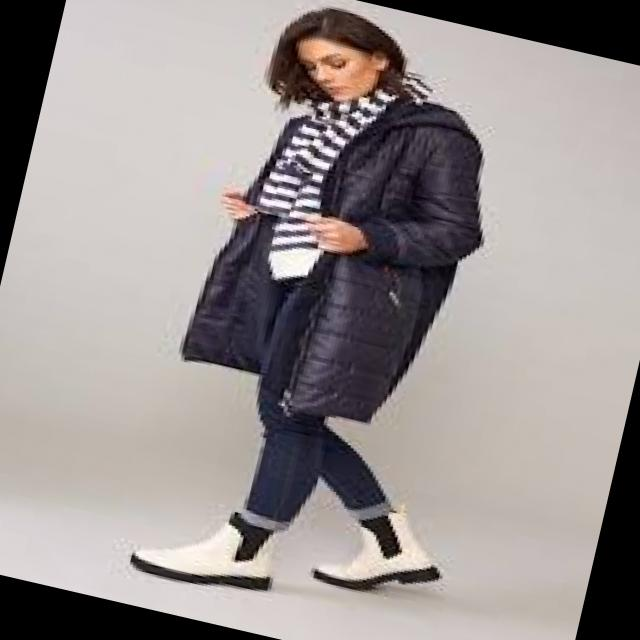Jacket: (150, 59, 522, 444)
